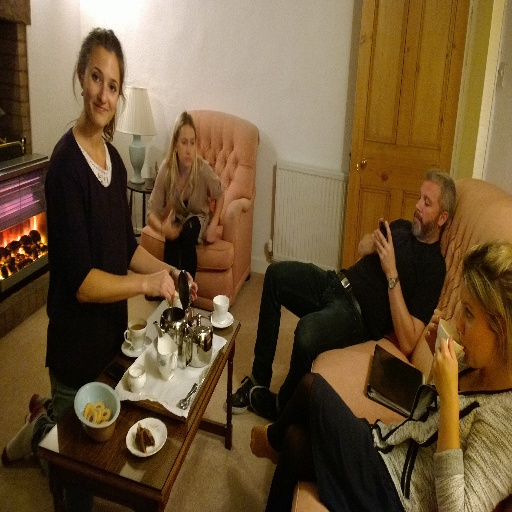hand: (366, 222, 408, 281), (431, 334, 457, 396), (147, 267, 175, 304), (424, 308, 445, 355), (174, 264, 197, 301), (161, 208, 181, 239), (370, 218, 382, 255), (206, 222, 216, 242)
